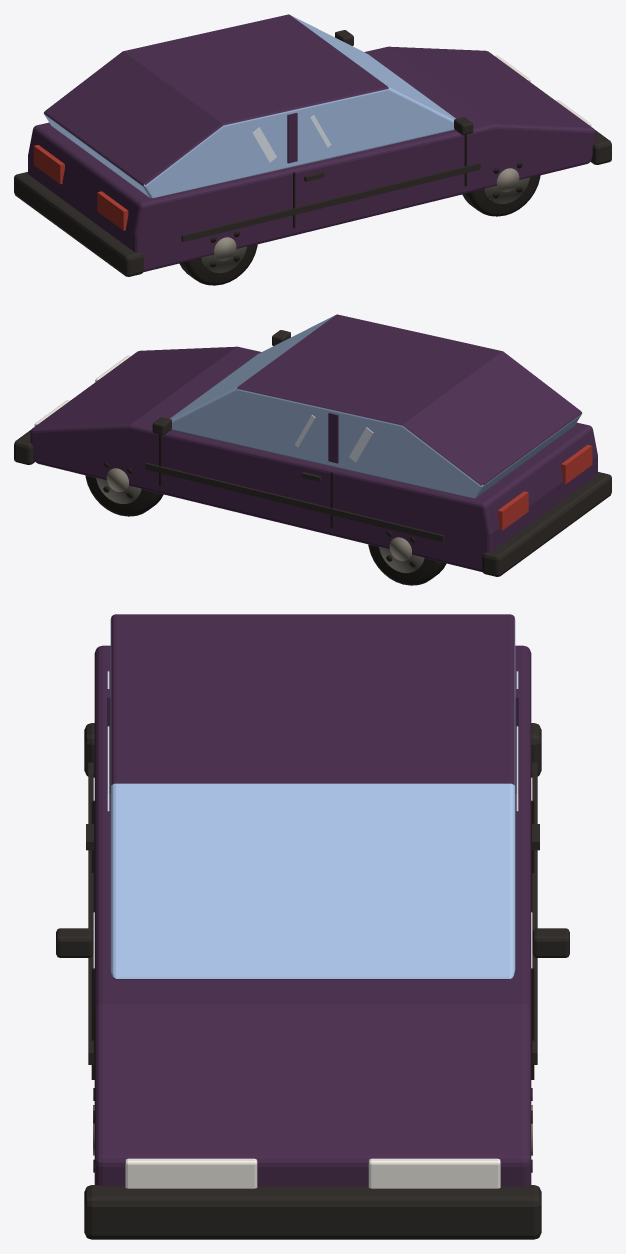
The model's file is VH_Nine.glb.
The picture shows the model from 3 angles, top to bottom: view 1: azimuth 30°, elevation 25°; view 2: azimuth 150°, elevation 25°; view 3: azimuth 270°, elevation 25°; orthographic projection. The views are drawn at different scales.
Parts seen in each view (by area): view 1: body; view 2: body; view 3: body.
Part boxes in pixels (x1=…): body: x1=14, y1=14, x2=611, y2=285; body: x1=14, y1=314, x2=611, y2=585; body: x1=56, y1=614, x2=569, y2=1239.
Bounding box in the file's own units: 4.25 × 1.33 × 1.94.
